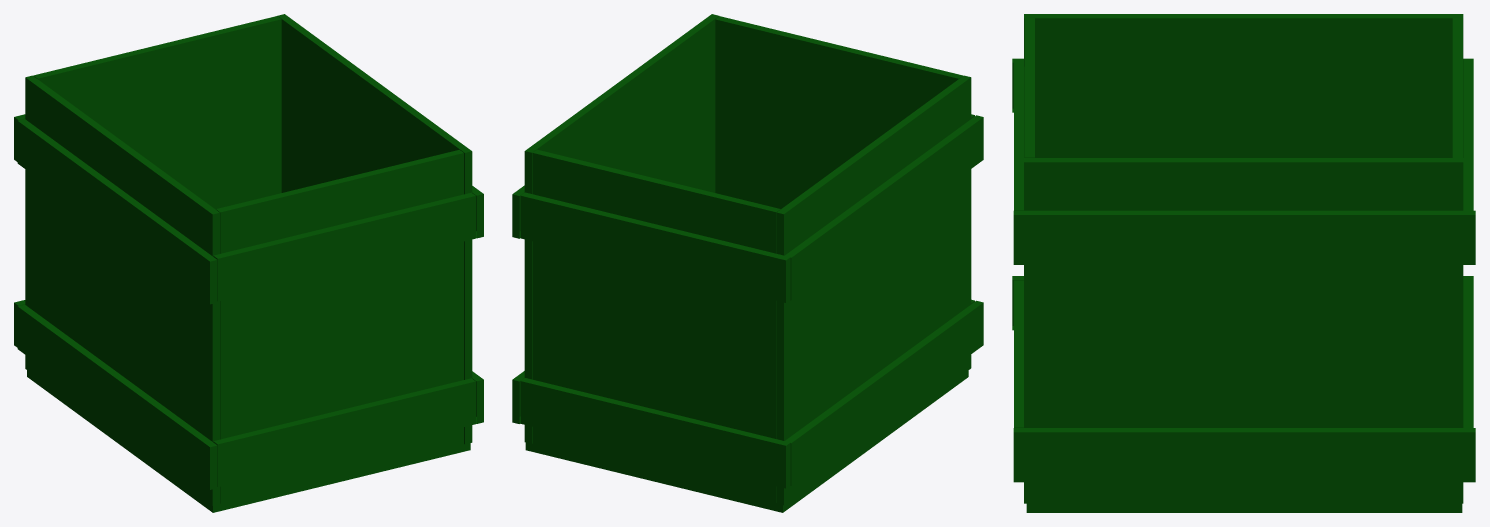
The model's file is crate03.FBX.
3 renders of one model, left to right at view 1: azimuth 30°, elevation 25°; view 2: azimuth 150°, elevation 25°; view 3: azimuth 270°, elevation 25°, orthographic. The views are drawn at different scales.
Parts seen in each view (by area): view 1: SM_crate03_0; view 2: SM_crate03_0; view 3: SM_crate03_0.
Part boxes in pixels (x1,y1,x2,y2): SM_crate03_0: (14,14,483,512); SM_crate03_0: (512,14,983,512); SM_crate03_0: (1012,14,1475,512).
Bounding box in the file's own units: 40.98 × 51.14 × 42.77.
